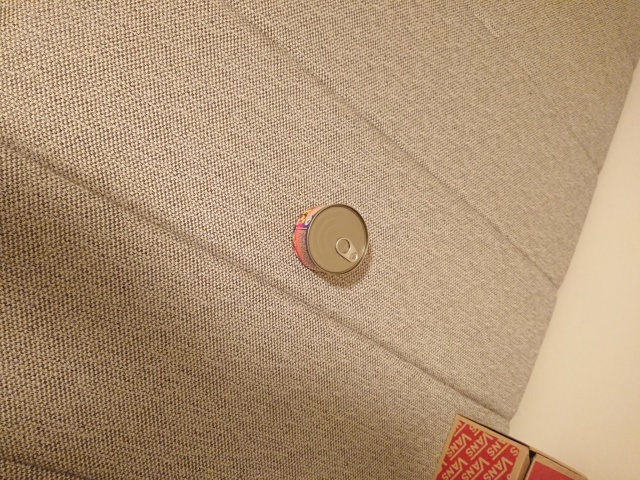Giana Tuna Salad Mexico 185g: (288, 200, 372, 280)
